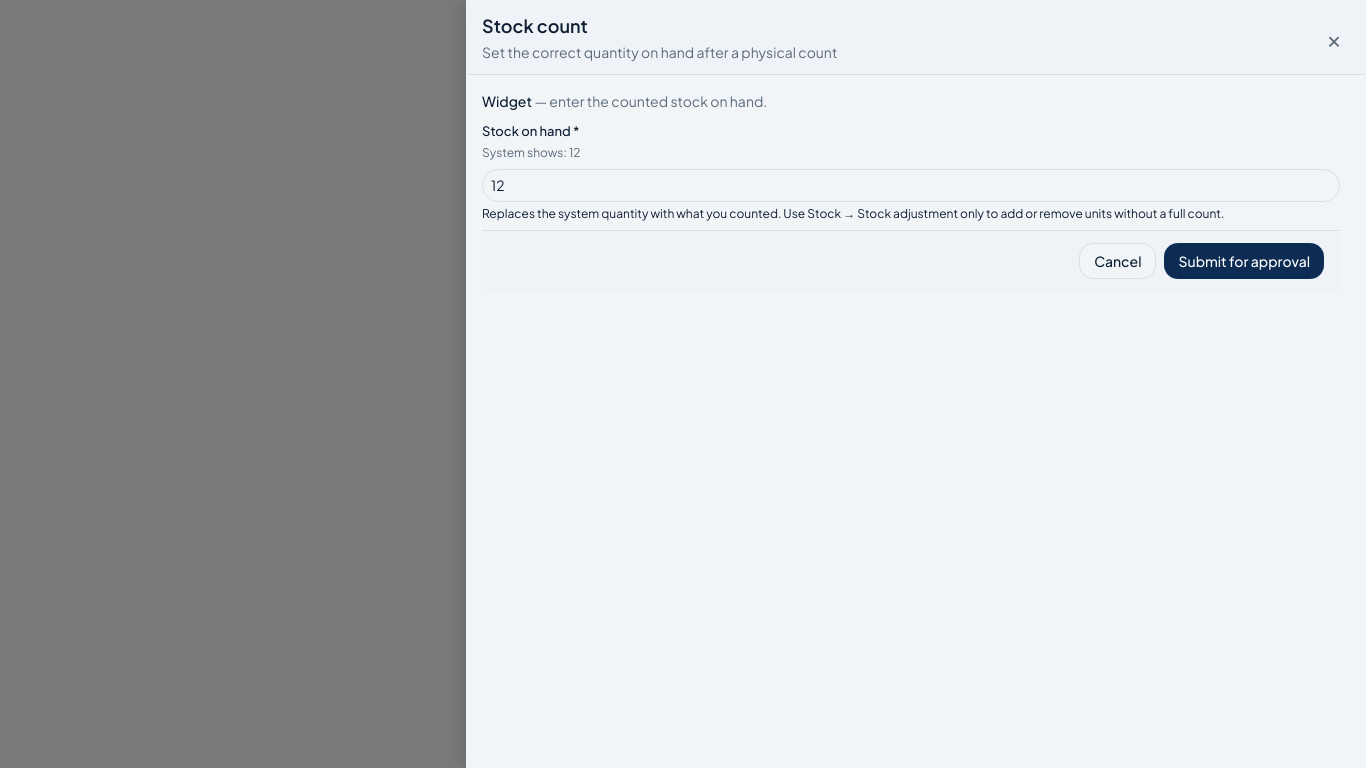
it: StockCountModal › maker-checker requires reason for stock changes
Replace the text in the field labelled "Stock on hand *" with "20" at (911, 186), box [482, 169, 1340, 202]
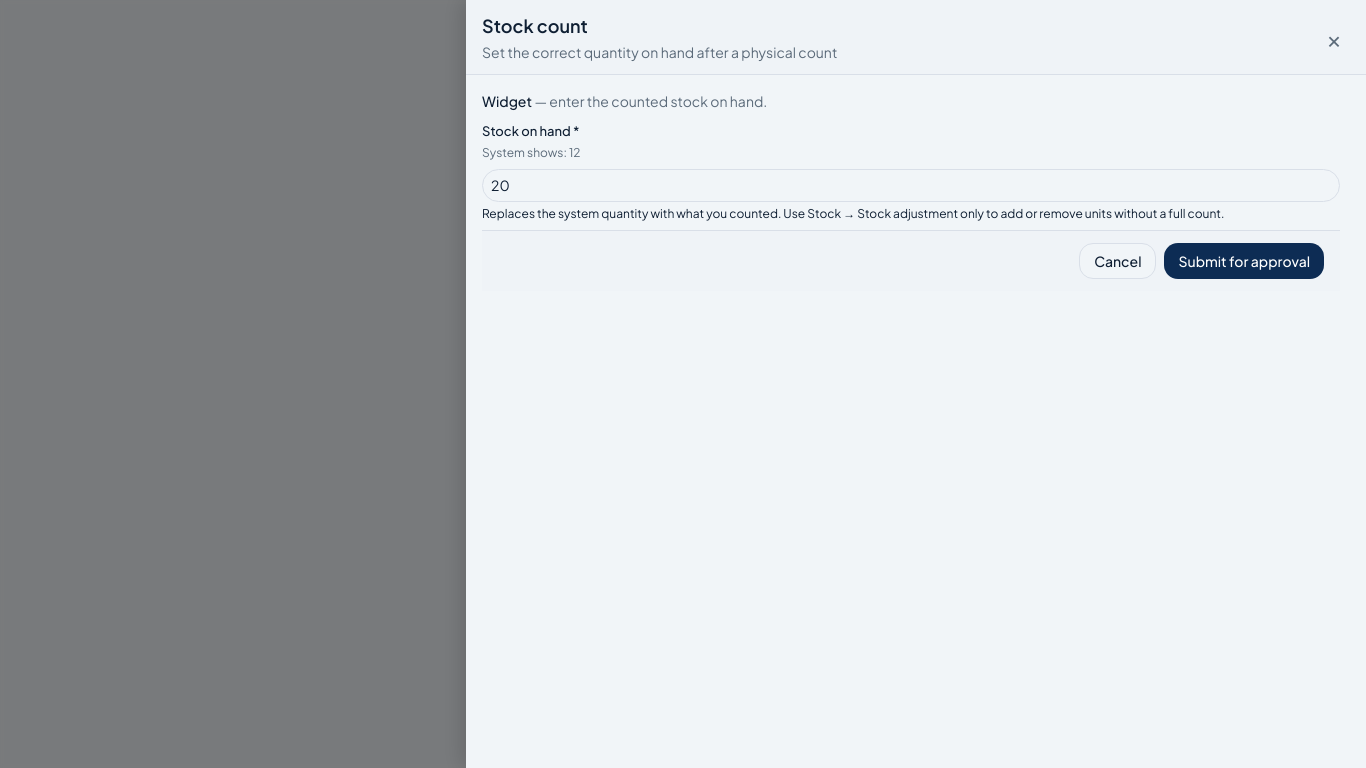
Click the button "Submit for approval".
click(1244, 261)  # box [1164, 243, 1324, 279]
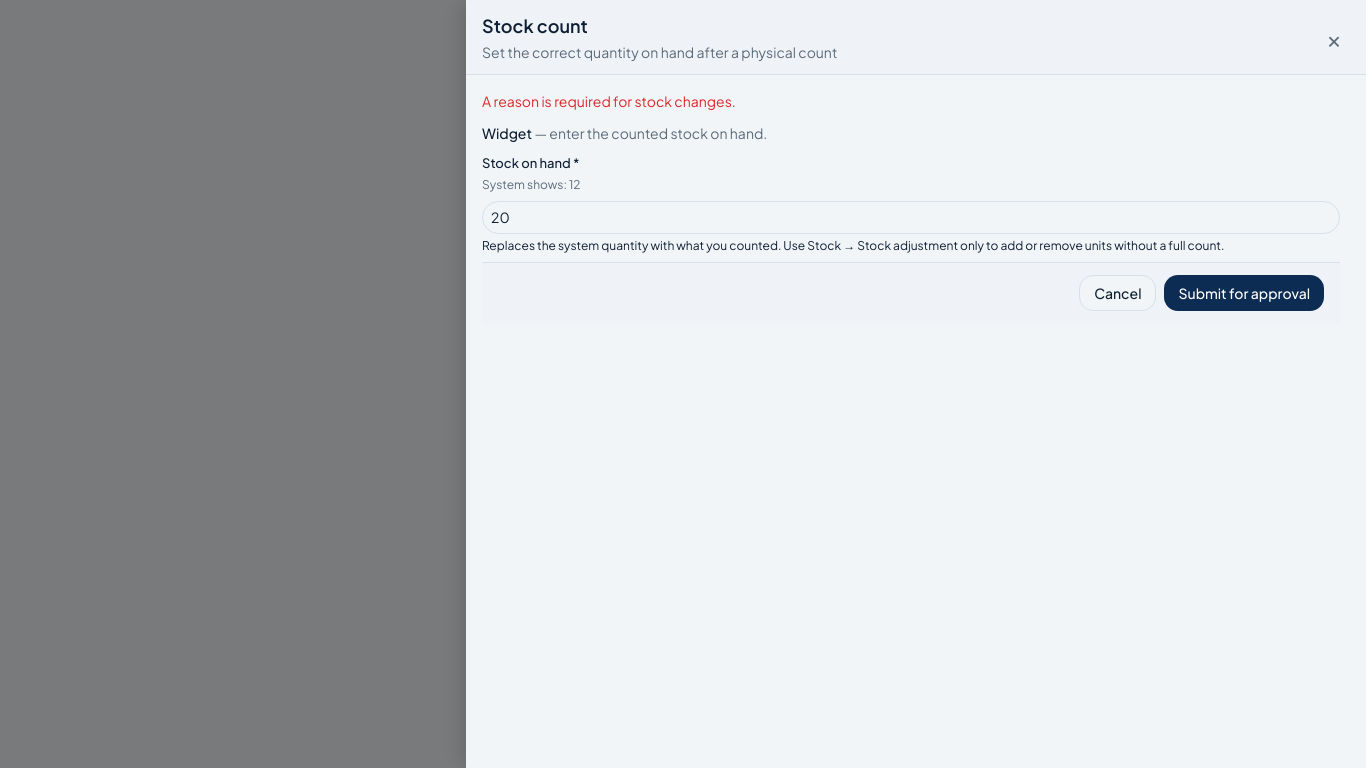
Result: the text "A reason is required for stock changes." is shown at [482, 92, 736, 110]
